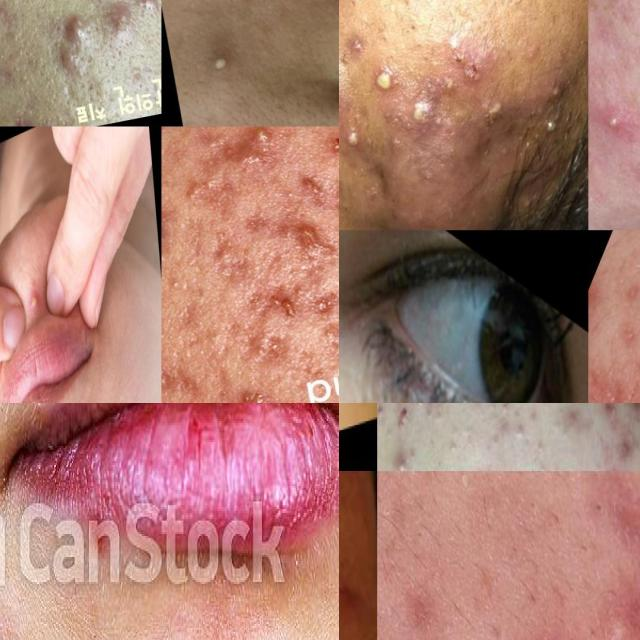acne_scars: (588, 343, 640, 403), (3, 95, 37, 126)
comedone: (442, 416, 466, 466), (410, 403, 445, 430), (550, 411, 572, 450), (508, 418, 530, 448), (377, 403, 388, 438), (536, 452, 549, 471)
cystic: (403, 92, 436, 139)
keloid: (272, 278, 302, 331), (301, 216, 335, 260)
papule: (611, 430, 639, 471), (597, 403, 628, 435)
pustule: (588, 101, 640, 162), (339, 116, 380, 170), (365, 59, 405, 103), (535, 72, 570, 116), (243, 126, 285, 154), (200, 49, 230, 81), (384, 443, 414, 471), (25, 274, 41, 324), (543, 117, 555, 140)
sebo-crystan-conglo: (363, 100, 535, 230), (54, 7, 95, 46), (233, 374, 282, 403), (108, 5, 133, 32), (139, 0, 159, 10)
syringoma: (339, 342, 499, 403)
